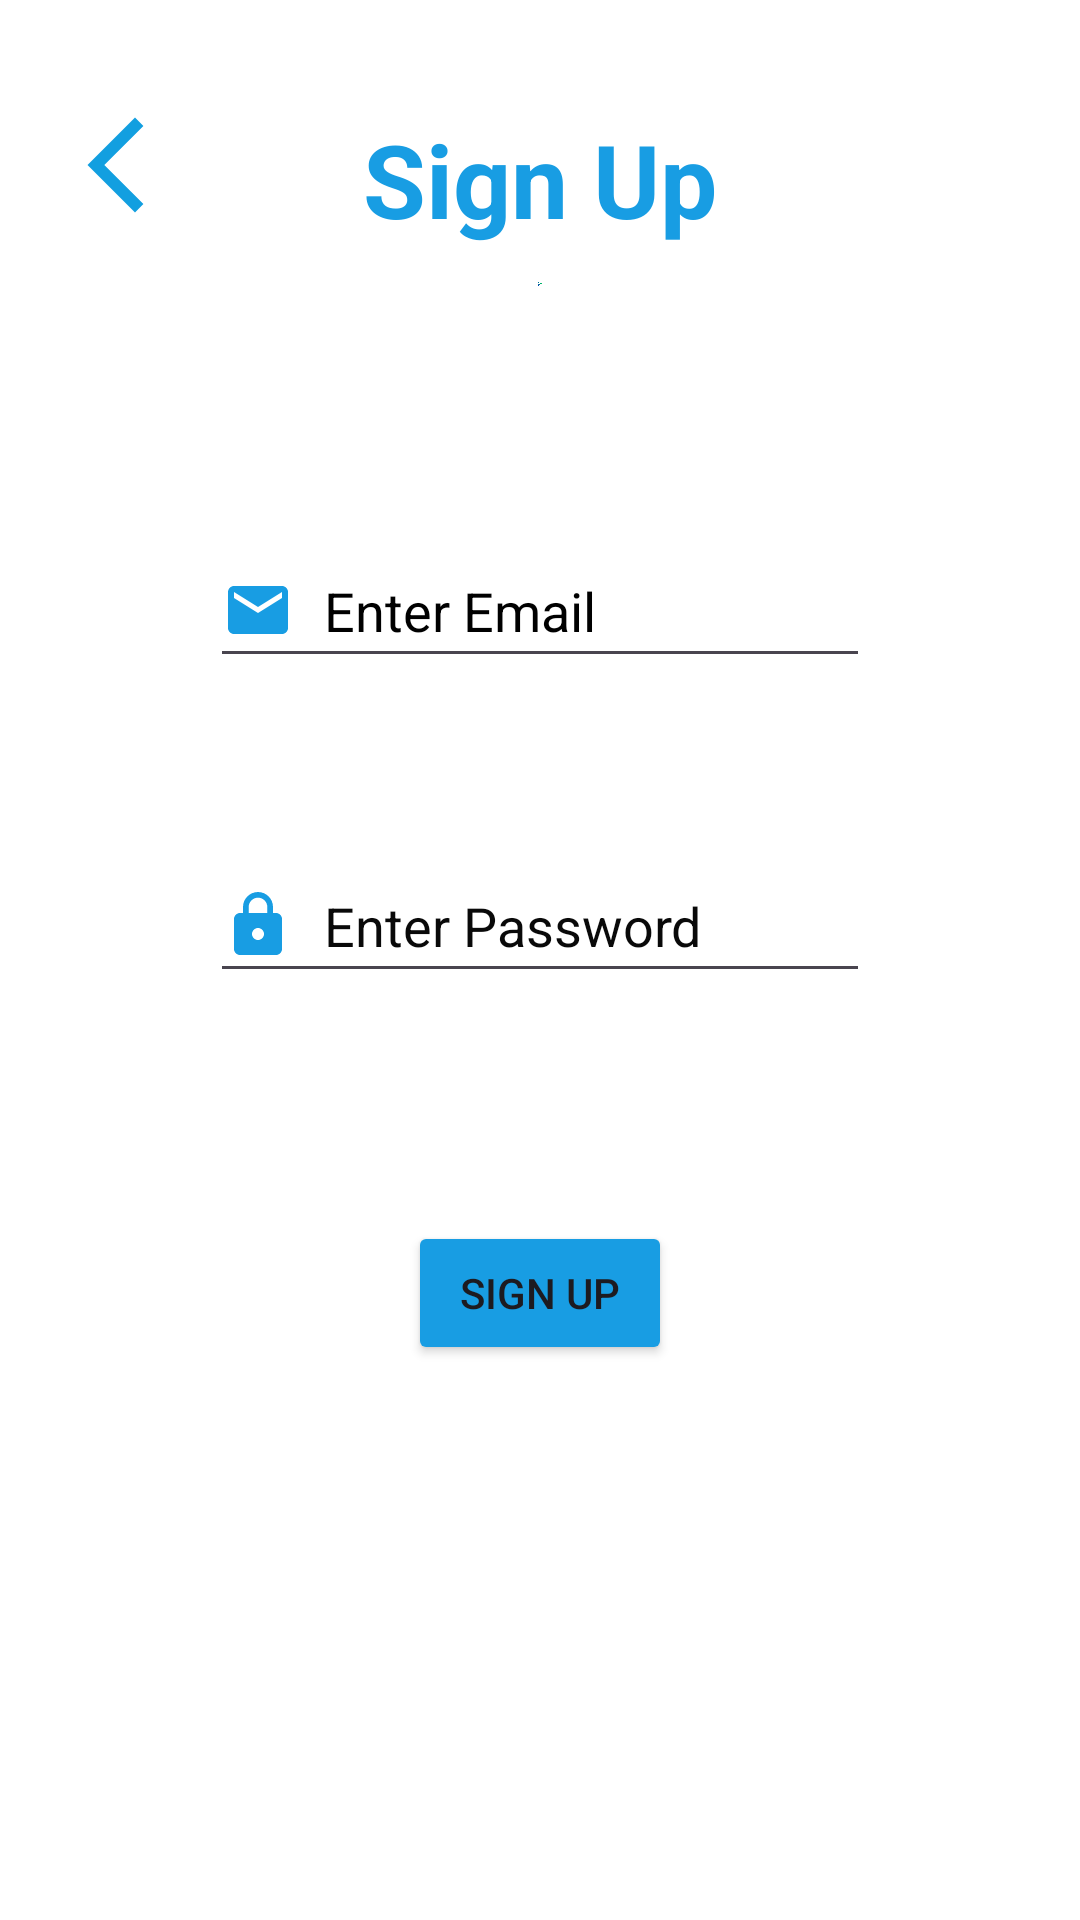

Icon click points for this 1080x1920 phone screenshot, format point (x, y):
back: point (115, 165)
